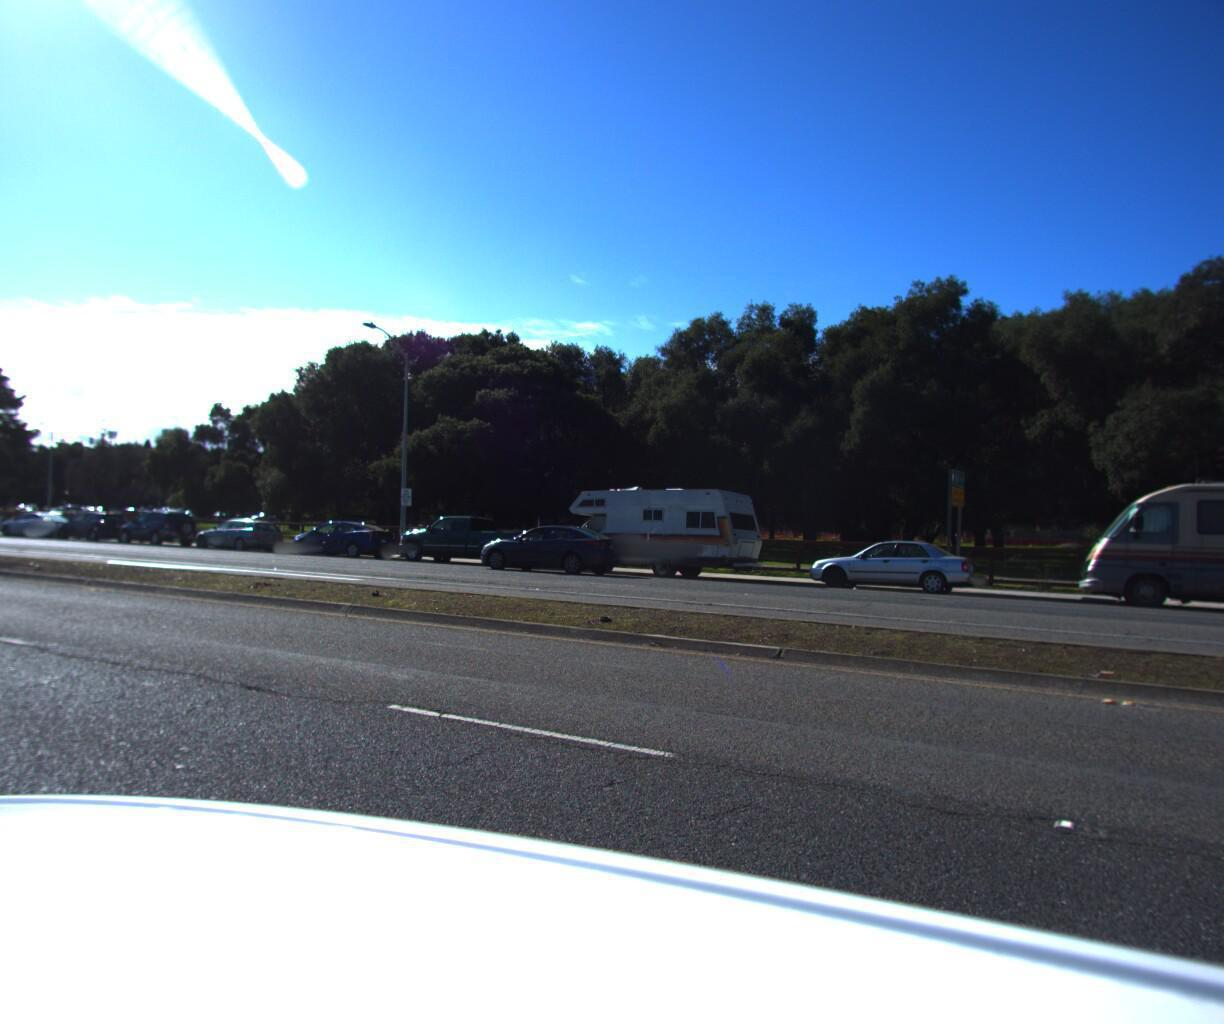car: (795, 529, 983, 595), (467, 517, 637, 573), (389, 509, 549, 564), (279, 514, 399, 556), (111, 502, 203, 544), (187, 509, 286, 548), (46, 502, 137, 540), (0, 505, 77, 536), (0, 495, 7, 530)
other_vehicle: (1064, 456, 1224, 633), (550, 477, 768, 579)
